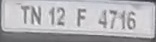character: (30, 5, 41, 25), (126, 9, 136, 30), (20, 5, 30, 24), (55, 6, 65, 25), (97, 9, 107, 28), (76, 7, 85, 27), (108, 9, 117, 29), (119, 10, 126, 30), (48, 7, 54, 26)
